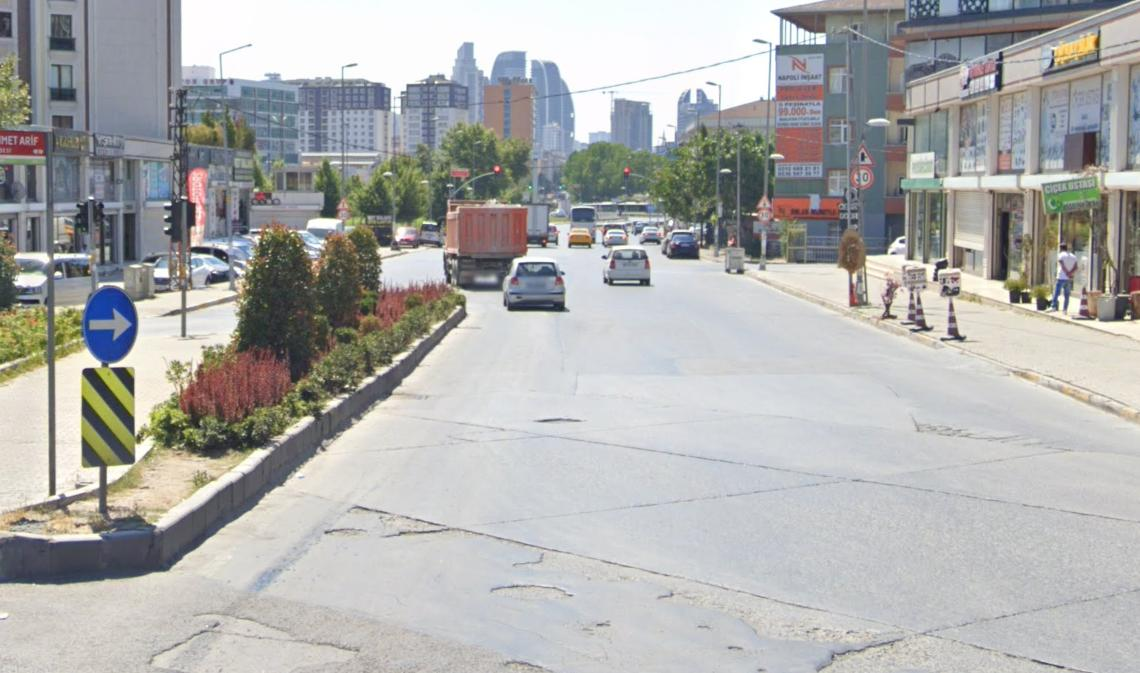greenlight: (527, 179, 533, 191)
redlight: (494, 165, 501, 179), (624, 166, 629, 181)
turnright: (83, 287, 138, 361)
